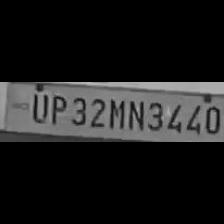0: (202, 102, 222, 134)
2: (88, 94, 106, 128)
3: (144, 98, 162, 132), (68, 93, 86, 126)
4: (182, 100, 200, 134), (164, 100, 182, 132)
M: (107, 96, 125, 130)
N: (125, 96, 143, 132)
P: (47, 92, 66, 125)
U: (28, 92, 48, 124)
